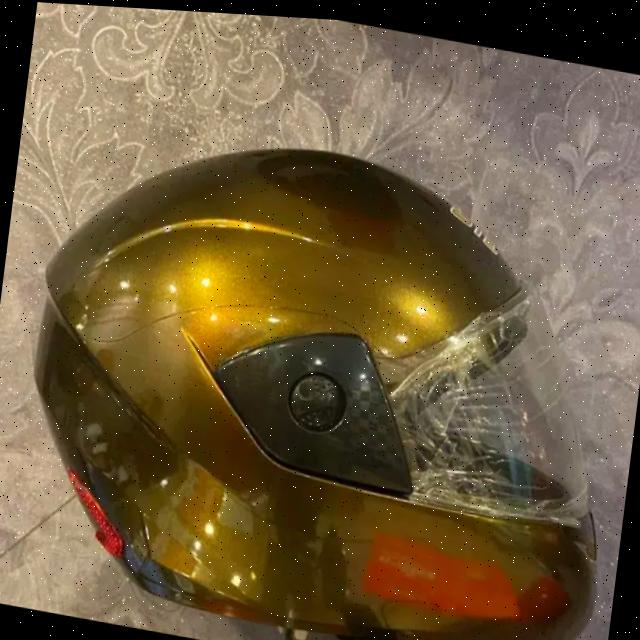Helmet: (5, 57, 612, 640)
